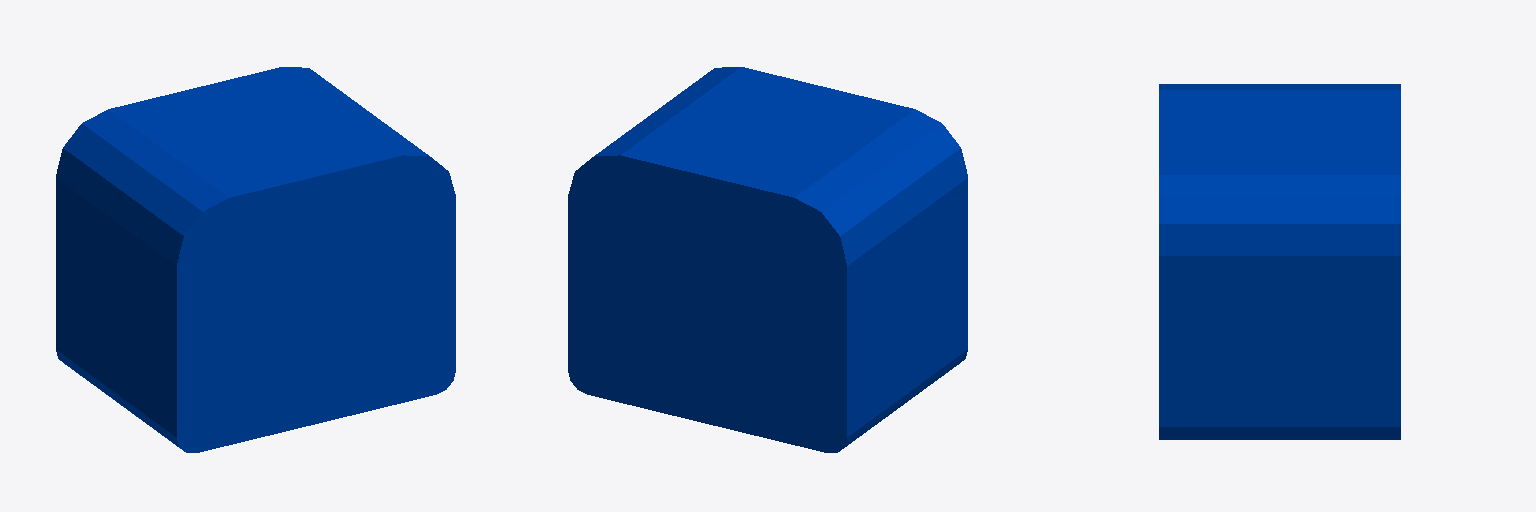
File: jifang.obj
3 renders of one model, left to right at view 1: azimuth 30°, elevation 25°; view 2: azimuth 150°, elevation 25°; view 3: azimuth 270°, elevation 25°, orthographic.
Visible parts, largest first — view 1: Rectangle016; view 2: Rectangle016; view 3: Rectangle016.
Part boxes in pixels (x1,y1,x2,y2): Rectangle016: (56,67,455,452); Rectangle016: (568,67,967,452); Rectangle016: (1159,84,1400,439).
Size of the model in its own units: 6.67 by 5.64 by 5.